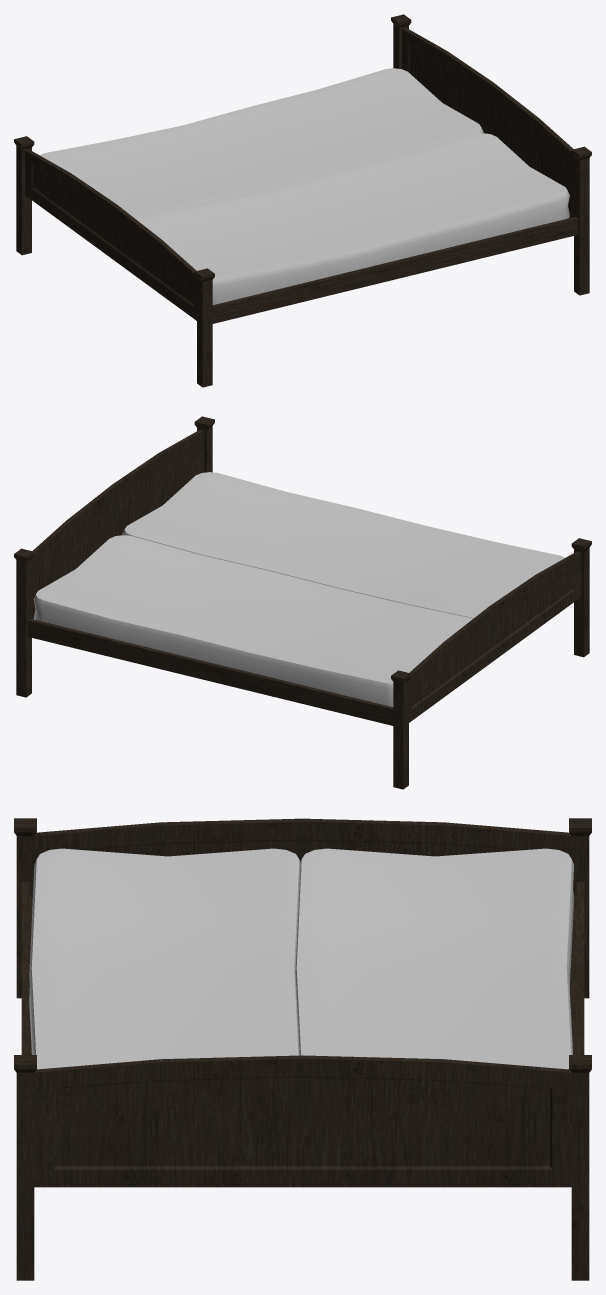
Rendered from bed_4_2.fbx.
The picture shows the model from 3 angles, top to bottom: view 1: azimuth 30°, elevation 25°; view 2: azimuth 150°, elevation 25°; view 3: azimuth 270°, elevation 25°; orthographic projection. The views are drawn at different scales.
Parts seen in each view (by area): view 1: bed_4_2; view 2: bed_4_2; view 3: bed_4_2.
Part boxes in pixels (left/top/right/bottom): bed_4_2: left=14, top=14, right=591, bottom=387; bed_4_2: left=14, top=416, right=591, bottom=789; bed_4_2: left=14, top=818, right=591, bottom=1280.
Bounding box in the file's own units: 2.74 × 0.9621 × 2.29.
